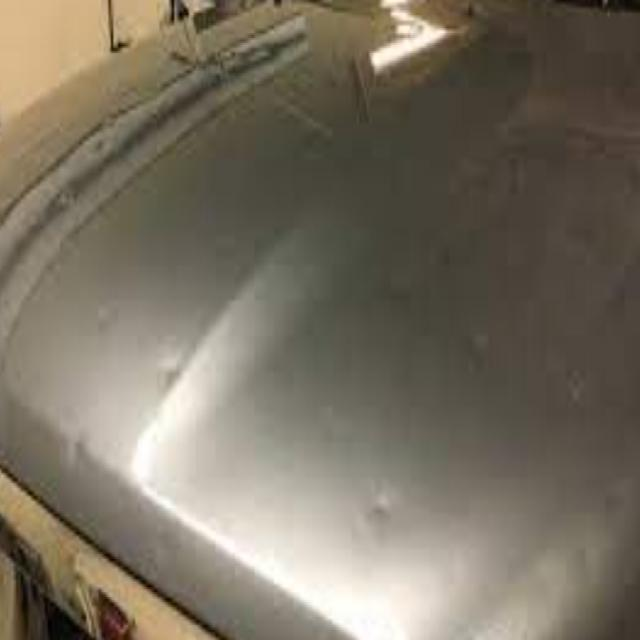dents: (559, 523, 613, 620), (151, 334, 196, 420), (460, 315, 499, 400), (558, 209, 605, 278), (357, 482, 398, 558), (379, 268, 423, 330), (86, 287, 129, 346), (58, 421, 96, 485), (597, 480, 640, 535), (434, 230, 471, 278)
